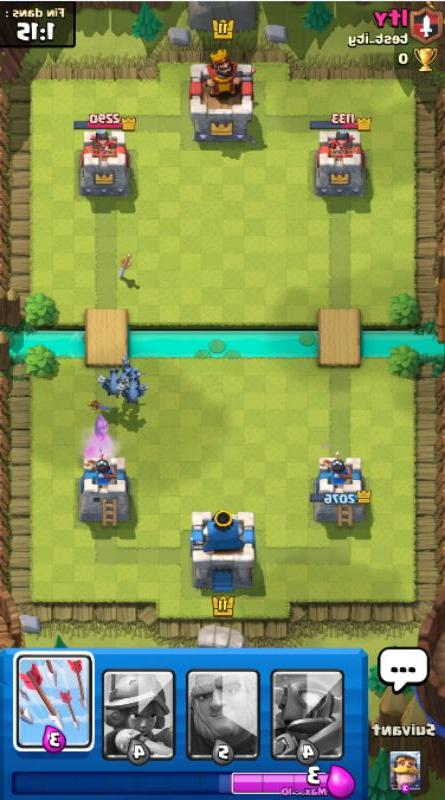gargouille: (115, 377, 149, 406), (118, 352, 147, 383), (97, 370, 127, 398)
